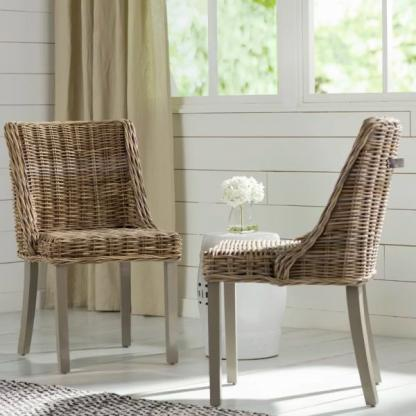chair: (195, 107, 401, 413), (3, 100, 179, 369)
